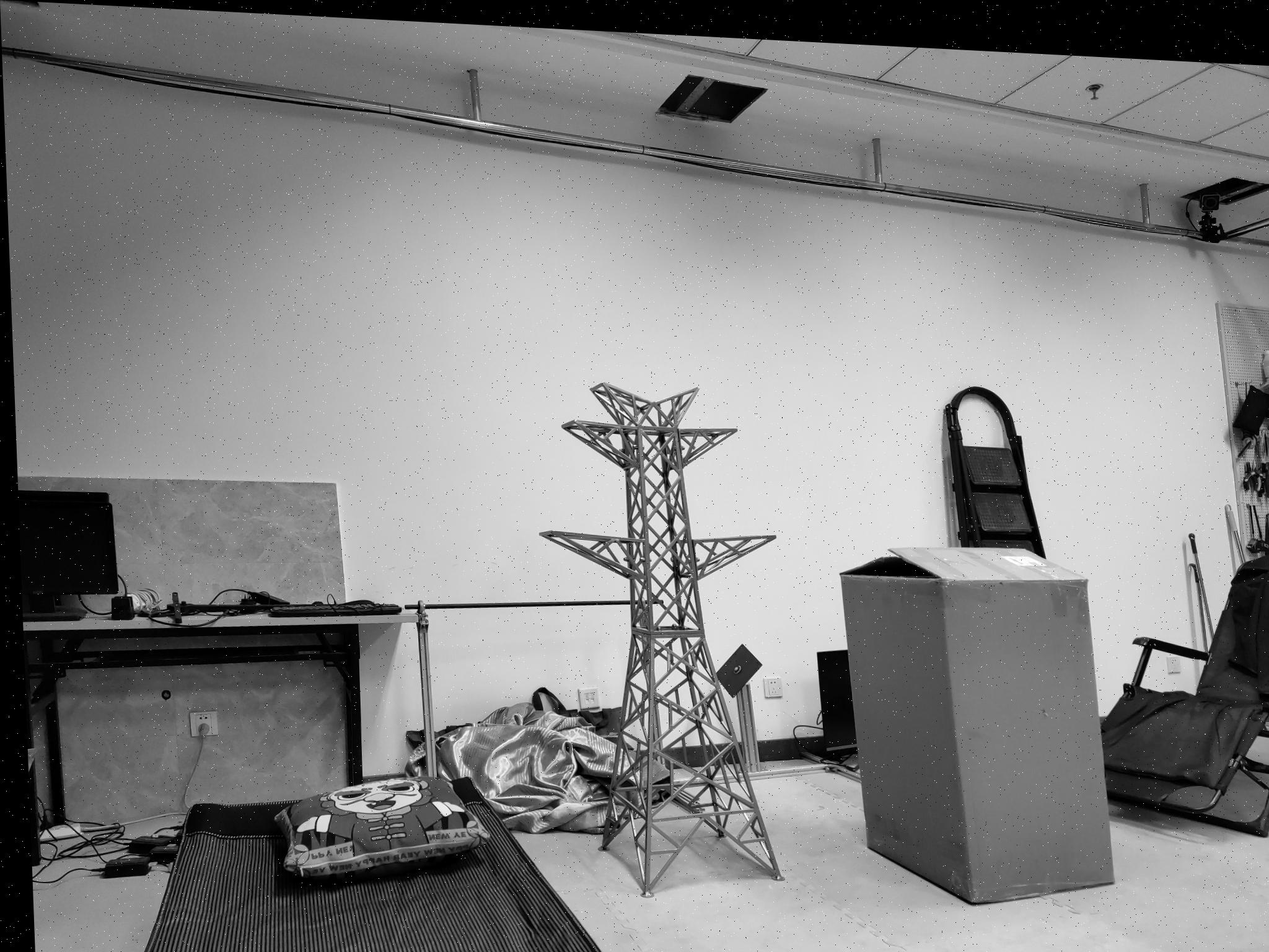tower: (542, 380, 790, 904)
